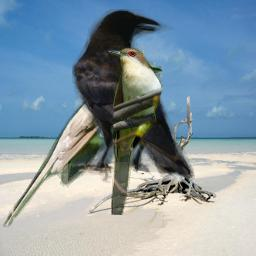Crow: (72, 9, 195, 183)
Cuckoo: (3, 60, 162, 229), (107, 47, 164, 215)
